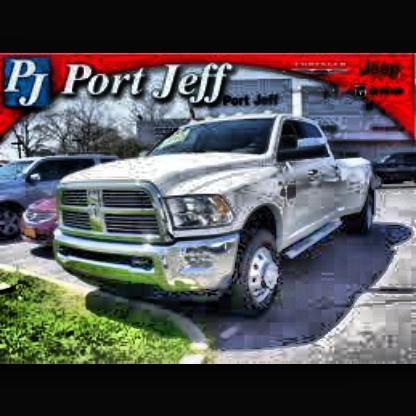Dodge Ram Pickup 3500 Crew Cab 2010: (51, 113, 383, 316)
